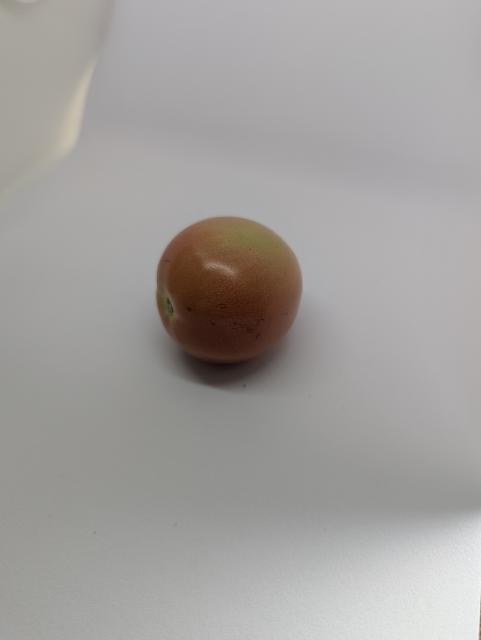turning: (150, 214, 312, 376)
